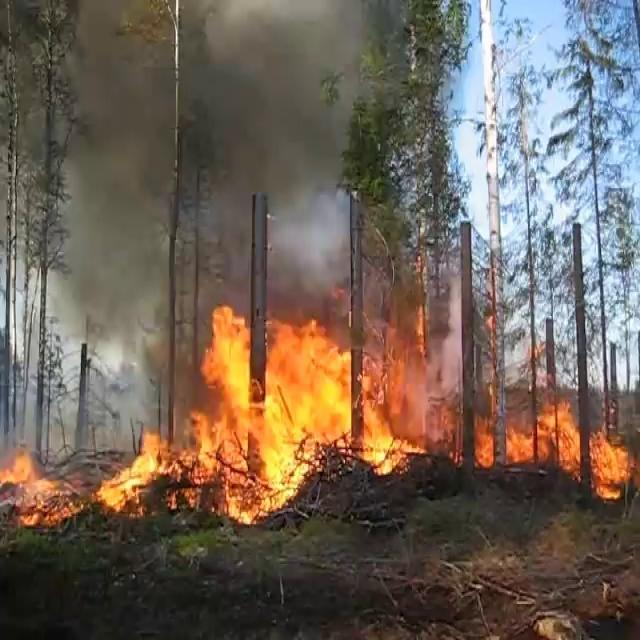Fire: (92, 319, 355, 526), (349, 326, 596, 482), (256, 320, 350, 525), (7, 448, 76, 537), (96, 431, 164, 516), (592, 432, 630, 487)
Smoke: (30, 22, 418, 195)
